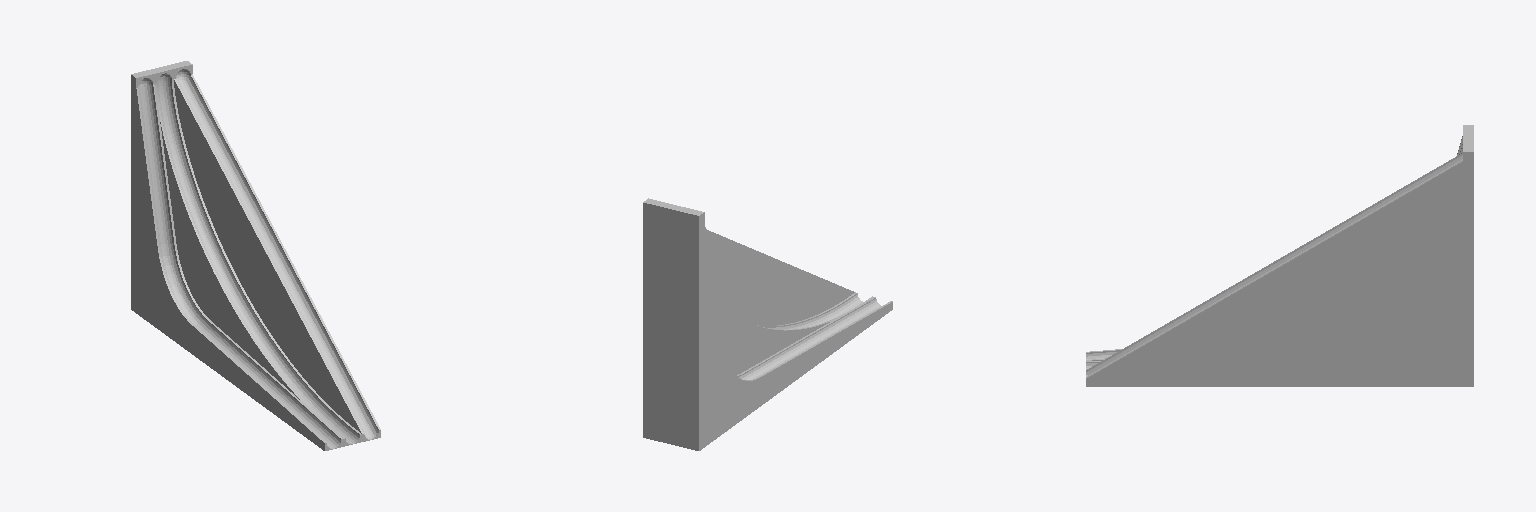
The model's file is modelo1.obj.
The picture shows the model from 3 angles: view 1: azimuth 30°, elevation 25°; view 2: azimuth 150°, elevation 25°; view 3: azimuth 270°, elevation 25°; orthographic projection.
Parts seen in each view (by area): view 1: Brachistochrone_Curve_v5; view 2: Brachistochrone_Curve_v5; view 3: Brachistochrone_Curve_v5.
Boxes of the visible parts, x1=… form: Brachistochrone_Curve_v5: x1=131, y1=61, x2=380, y2=450; Brachistochrone_Curve_v5: x1=643, y1=198, x2=892, y2=450; Brachistochrone_Curve_v5: x1=1086, y1=125, x2=1473, y2=386.
Bounding box in the file's own units: 0.42 × 1.68 × 2.5.